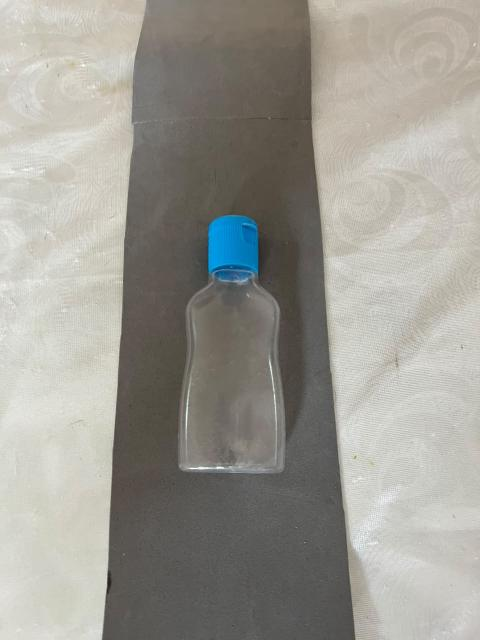PET: (153, 180, 310, 502)
